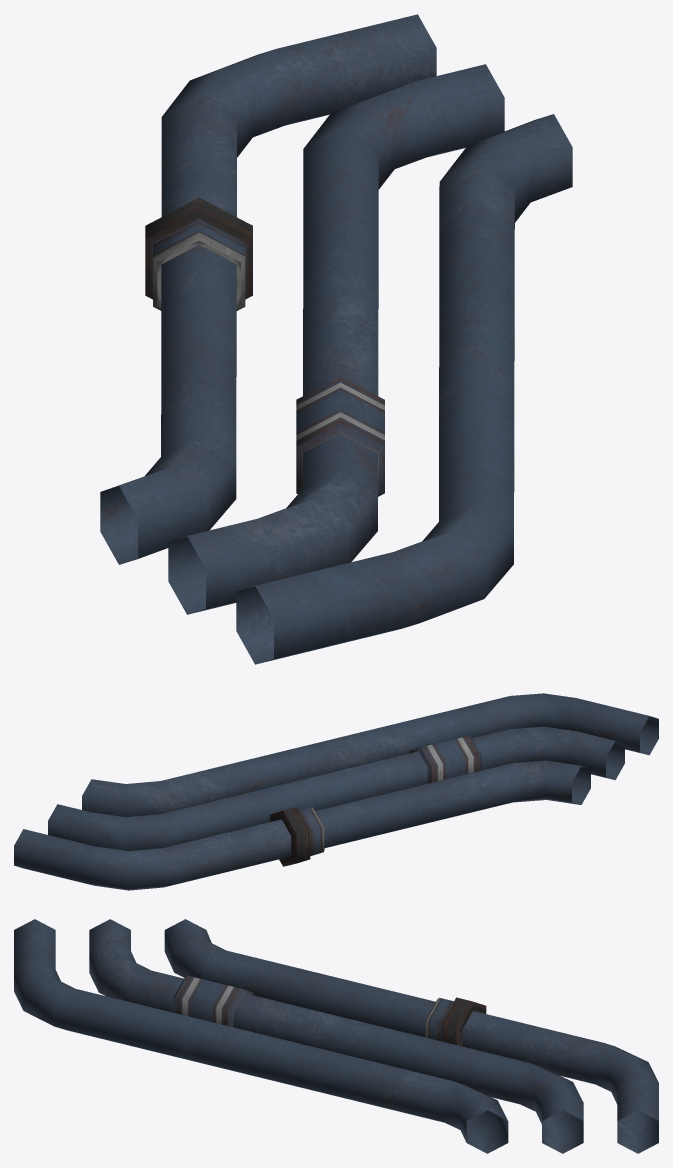
The model's file is Pipe3_Courner6_L1.fbx.
The picture shows the model from 3 angles, top to bottom: view 1: azimuth 30°, elevation 25°; view 2: azimuth 150°, elevation 25°; view 3: azimuth 270°, elevation 25°; orthographic projection. The views are drawn at different scales.
Parts seen in each view (by area): view 1: PIpe5_Courner6_L1; view 2: PIpe5_Courner6_L1; view 3: PIpe5_Courner6_L1.
Boxes of the visible parts, bbox=[...] form: PIpe5_Courner6_L1: bbox=[100, 14, 572, 664]; PIpe5_Courner6_L1: bbox=[14, 693, 658, 890]; PIpe5_Courner6_L1: bbox=[14, 919, 658, 1153].
Bounding box in the file's own units: 100 × 15.23 × 143.
